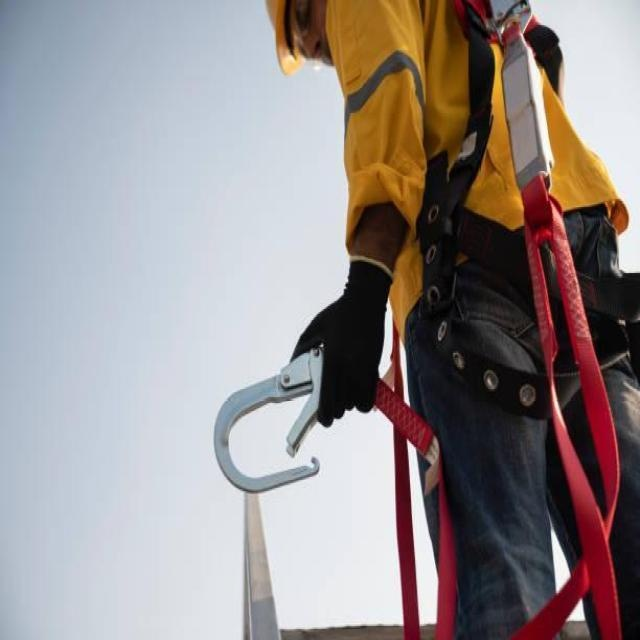Arnes_seguridad: (412, 0, 639, 430)
